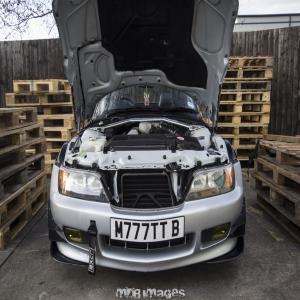Vehicle-registration-plate: (110, 215, 185, 243)
